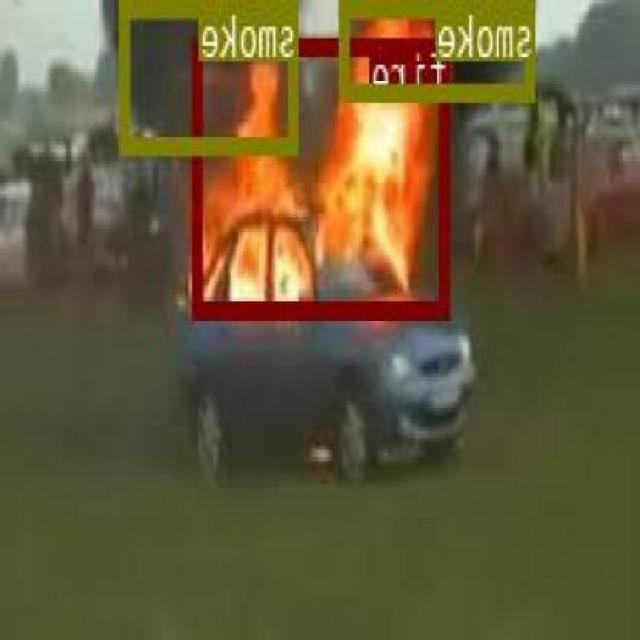Fire: (194, 36, 450, 313)
Smoke: (121, 0, 302, 149), (342, 0, 536, 95)
